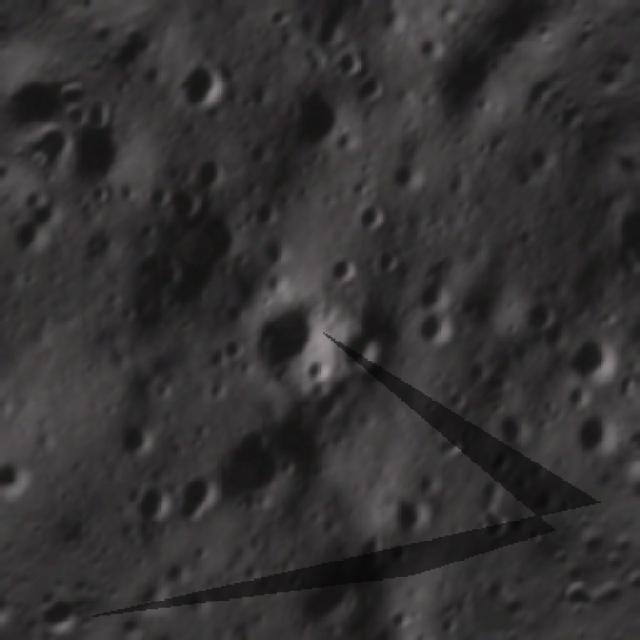crater: (227, 283, 356, 411), (196, 414, 316, 534), (268, 69, 364, 165), (53, 108, 145, 202), (553, 322, 638, 406), (0, 178, 74, 272), (322, 316, 402, 396), (150, 459, 228, 538), (166, 50, 240, 124), (591, 180, 640, 288), (560, 400, 632, 472), (110, 465, 179, 538), (372, 479, 441, 548), (0, 306, 29, 443), (402, 303, 464, 366), (105, 408, 166, 470), (465, 492, 526, 554), (156, 180, 216, 240), (341, 63, 399, 123), (318, 34, 374, 89), (508, 290, 562, 344), (359, 230, 413, 284), (346, 194, 394, 243), (320, 247, 366, 295), (184, 149, 230, 197), (0, 441, 43, 490), (43, 500, 86, 538)
